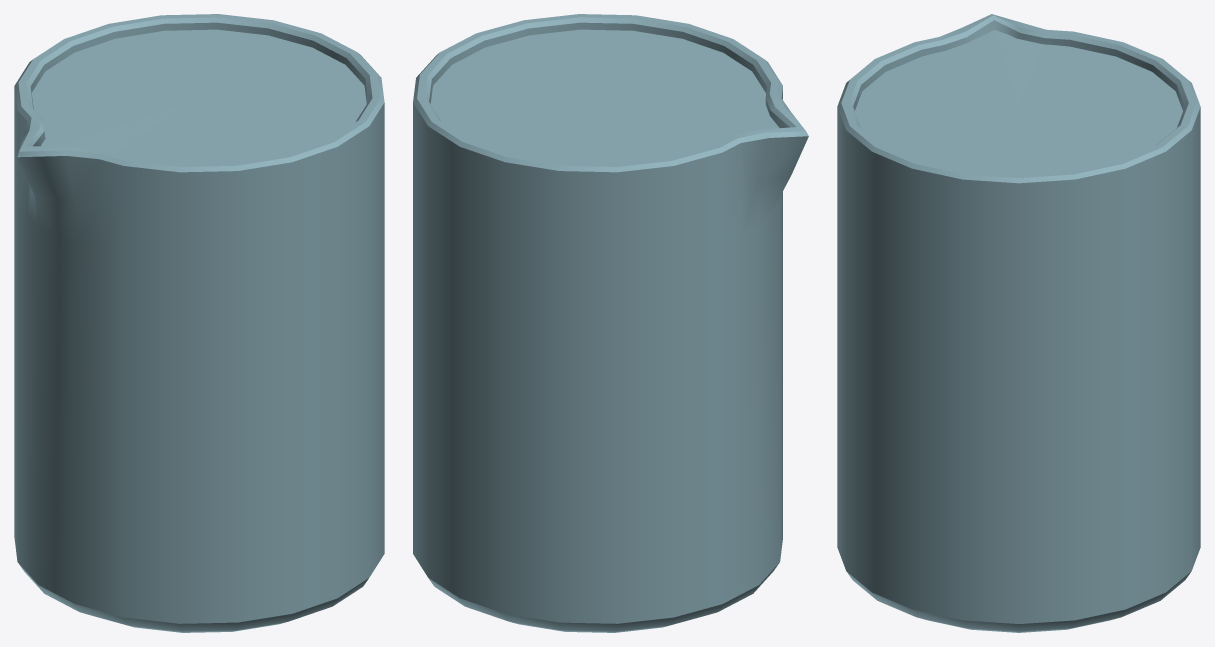
Rendered from BeackerBottle.fbx.
The picture shows the model from 3 angles, left to right: view 1: azimuth 30°, elevation 25°; view 2: azimuth 150°, elevation 25°; view 3: azimuth 270°, elevation 25°; orthographic projection. The views are drawn at different scales.
Parts seen in each view (by area): view 1: BeakerBottle, BeakerFull; view 2: BeakerBottle, BeakerFull; view 3: BeakerBottle, BeakerFull.
Boxes of the visible parts, x1,y1,x2,y2 form: BeakerBottle: (14,14,384,632); BeakerFull: (31,29,366,163); BeakerBottle: (413,14,808,632); BeakerFull: (431,29,779,163); BeakerBottle: (837,14,1200,632); BeakerFull: (855,30,1182,174).
Size of the model in its own units: 17.46 by 22.19 by 15.73.
